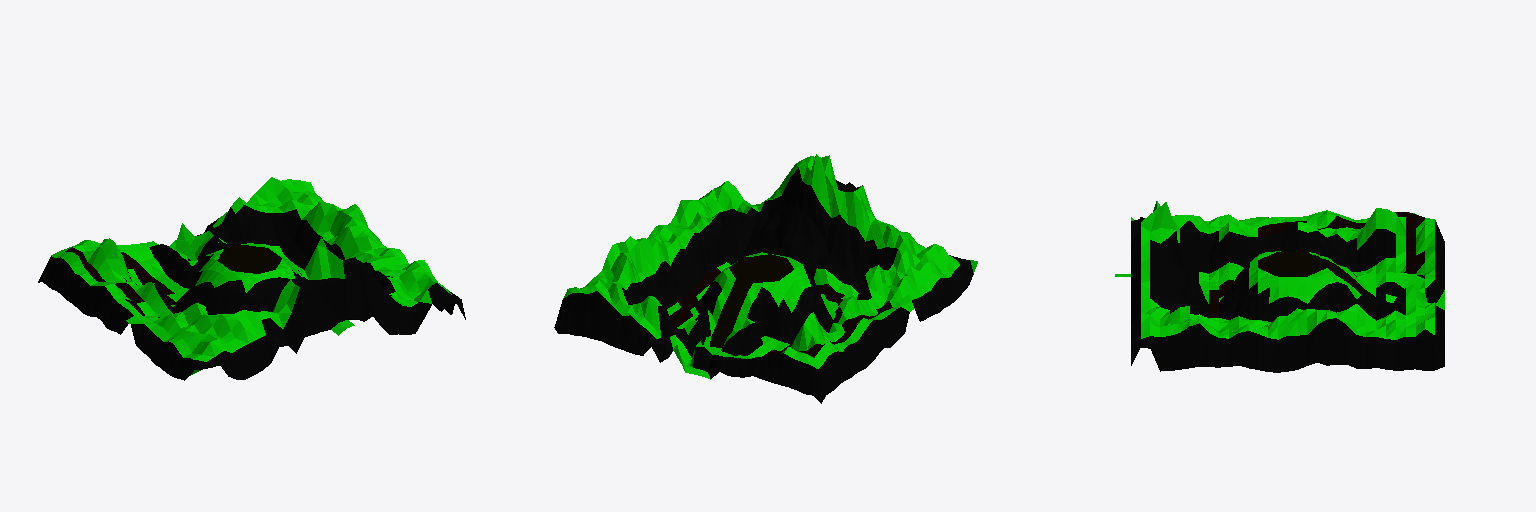
The model's file is Terrain16th.obj.
The picture shows the model from 3 angles: view 1: azimuth 30°, elevation 25°; view 2: azimuth 150°, elevation 25°; view 3: azimuth 270°, elevation 25°; orthographic projection.
Parts seen in each view (by area): view 1: Terrain16th; view 2: Terrain16th; view 3: Terrain16th.
Part boxes in pixels (x1,y1,x2,y2): Terrain16th: (38, 177, 465, 380); Terrain16th: (554, 154, 977, 403); Terrain16th: (1115, 201, 1444, 372).
Size of the model in its own units: 100 by 41.09 by 105.